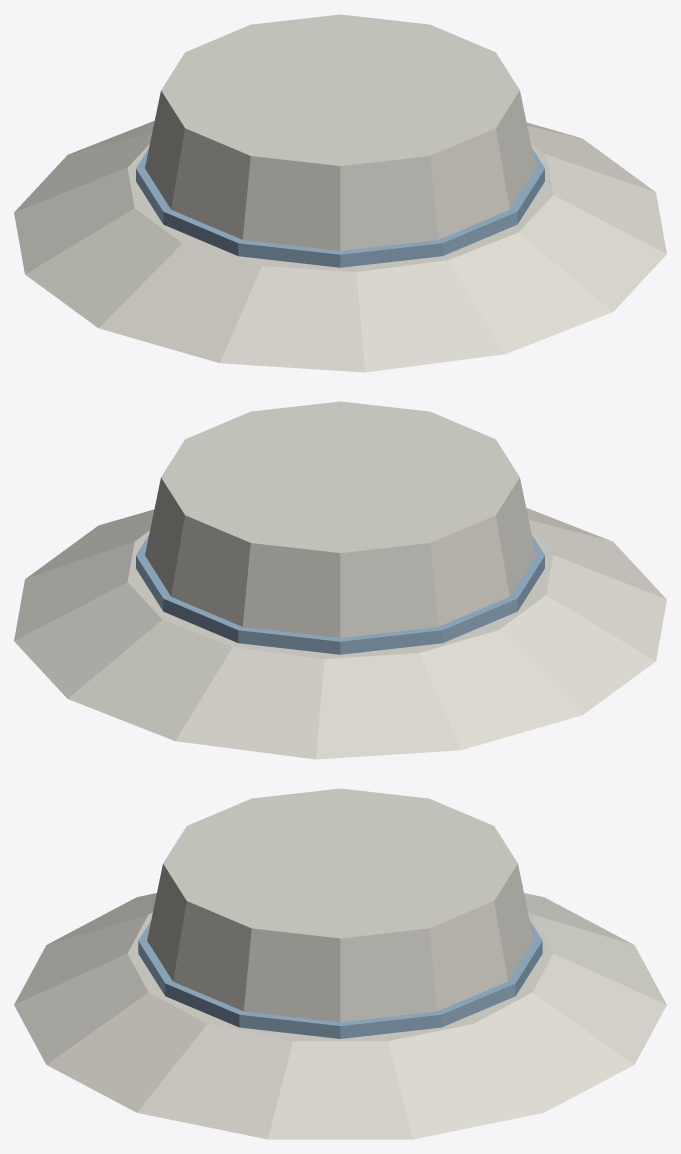
Rendered from hat_panama.glb.
3 renders of one model, top to bottom at view 1: azimuth 30°, elevation 25°; view 2: azimuth 150°, elevation 25°; view 3: azimuth 270°, elevation 25°, orthographic.
Visible parts, largest first — view 1: Head; view 2: Head; view 3: Head.
Part boxes in pixels (x1=…): Head: x1=14, y1=14, x2=666, y2=372; Head: x1=14, y1=401, x2=666, y2=759; Head: x1=14, y1=788, x2=666, y2=1139.
Size of the model in its own units: 0.8969 by 0.22 by 0.92.
